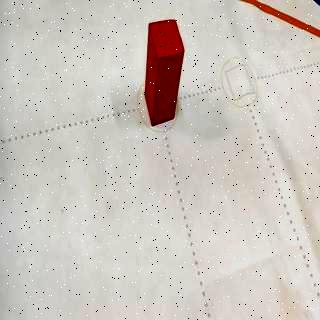redbox: (143, 18, 186, 127)
